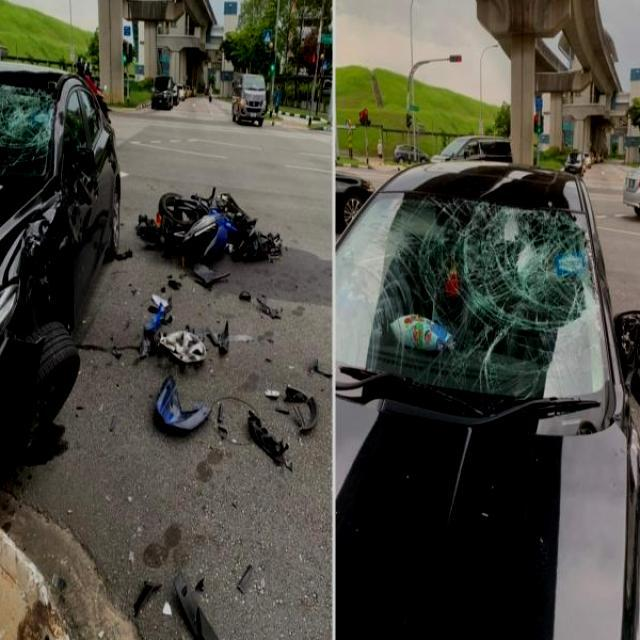accident: (414, 127, 605, 382), (0, 52, 127, 335), (136, 153, 292, 302)
